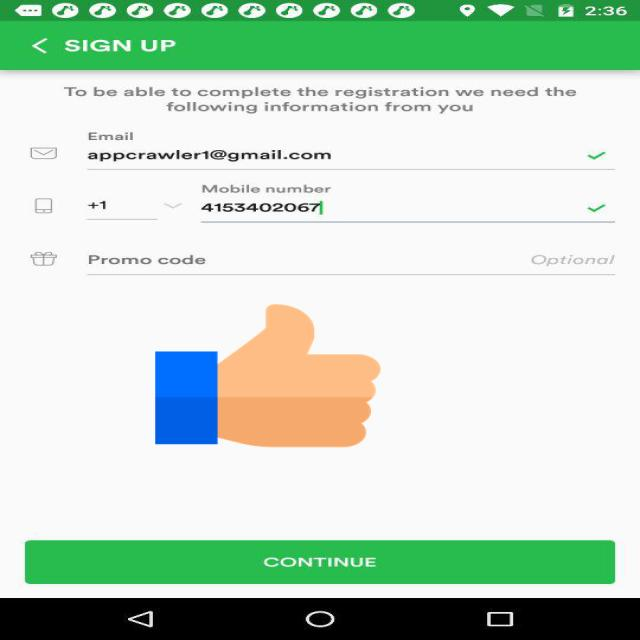privacy zuckering: (156, 300, 380, 450)
